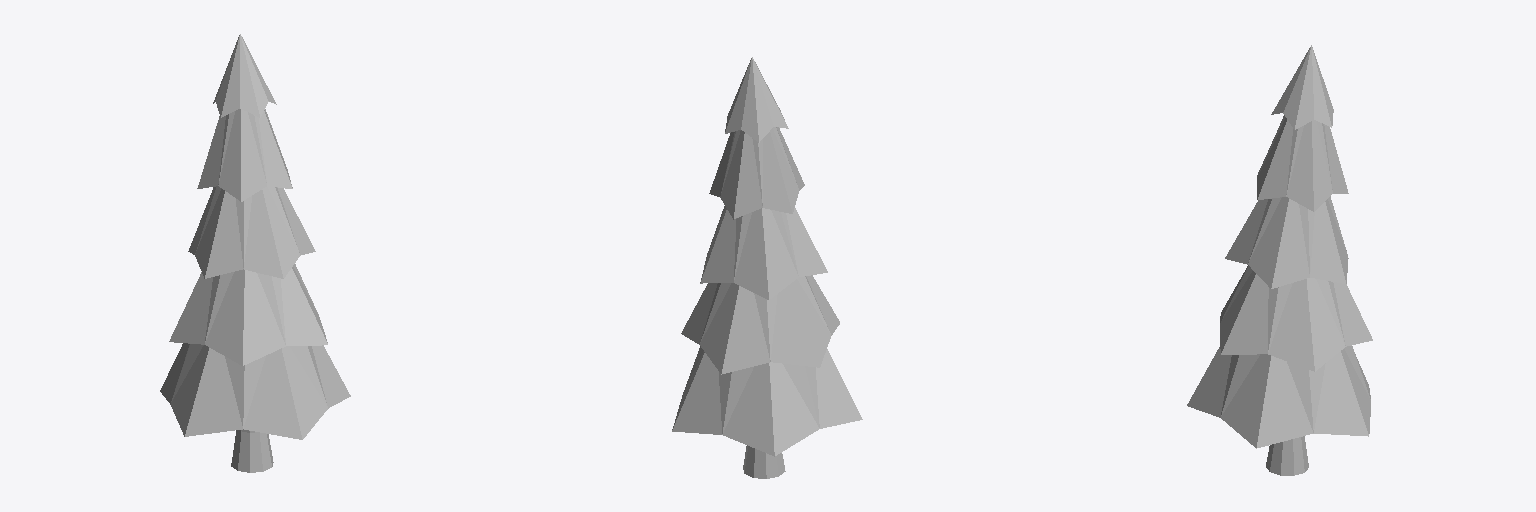
The model's file is TreeSwaying6.obj.
The picture shows the model from 3 angles: view 1: azimuth 30°, elevation 25°; view 2: azimuth 150°, elevation 25°; view 3: azimuth 270°, elevation 25°; orthographic projection.
Visible parts, largest first — view 1: Cylinder.001; view 2: Cylinder.001; view 3: Cylinder.001.
Boxes of the visible parts, x1=… form: Cylinder.001: x1=160, y1=34, x2=350, y2=472; Cylinder.001: x1=672, y1=57, x2=862, y2=478; Cylinder.001: x1=1187, y1=45, x2=1372, y2=475.
Size of the model in its own units: 5.86 by 14.23 by 5.7.